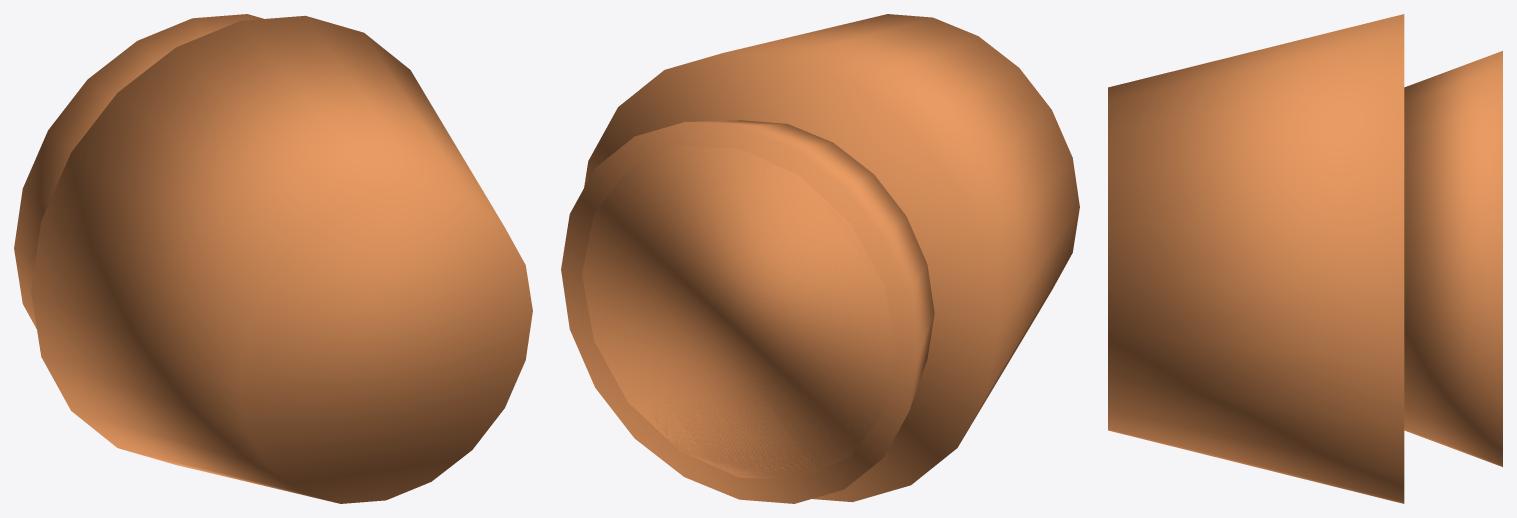
The model's file is jet_thruster_nozzle.glb.
3 views of the same model, side by side, from view 1: azimuth 30°, elevation 25°; view 2: azimuth 150°, elevation 25°; view 3: azimuth 270°, elevation 25° (orthographic).
Visible parts, largest first — view 1: jet_thruster_nozzle; view 2: jet_thruster_nozzle; view 3: jet_thruster_nozzle.
Part boxes in pixels (<box>): jet_thruster_nozzle: <box>14,14,532,503</box>; jet_thruster_nozzle: <box>561,14,1079,503</box>; jet_thruster_nozzle: <box>1108,14,1502,503</box>.
Size of the model in its own units: 0.8 by 0.8 by 0.64.
